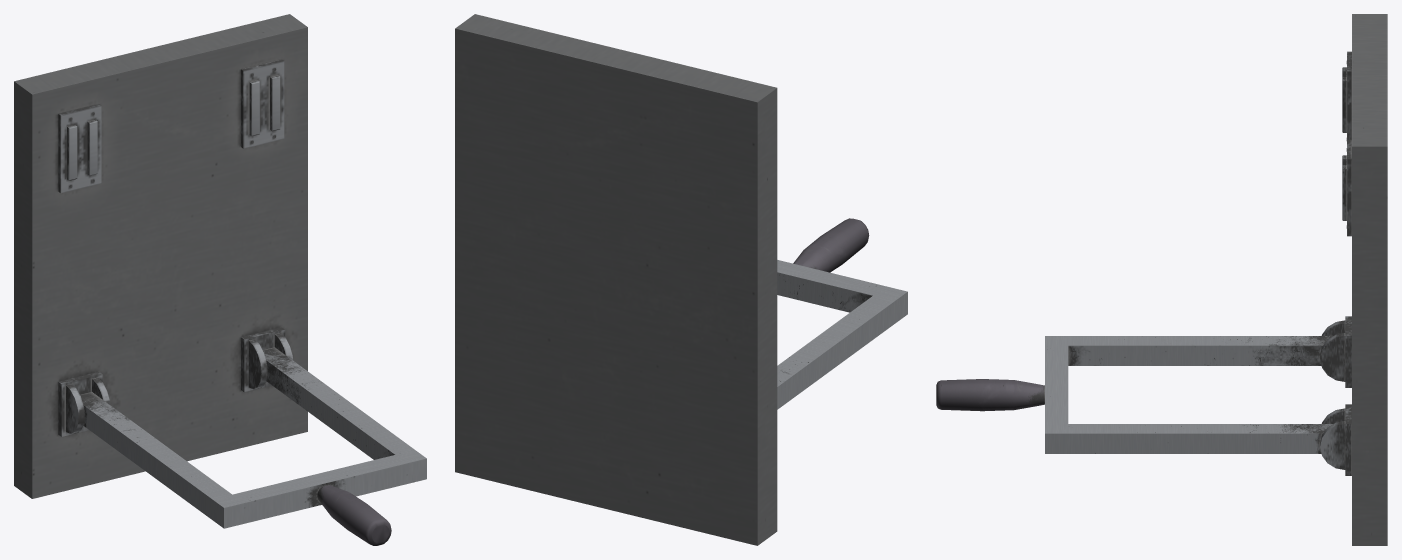
Rendered from Lever.fbx.
3 renders of one model, left to right at view 1: azimuth 30°, elevation 25°; view 2: azimuth 150°, elevation 25°; view 3: azimuth 270°, elevation 25°, orthographic. The views are drawn at different scales.
Parts seen in each view (by area): view 1: Cube.001, Cube.003; view 2: Cube.001, Cube.003; view 3: Cube.001, Cube.003.
Boxes of the visible parts, x1,y1,x2,y2 form: Cube.001: (14,14,307,498); Cube.003: (80,347,426,545); Cube.001: (455,14,777,545); Cube.003: (777,218,907,409); Cube.001: (1320,14,1387,545); Cube.003: (936,336,1332,453).
Bounding box in the file's own units: 32.28 × 45.24 × 46.36.
